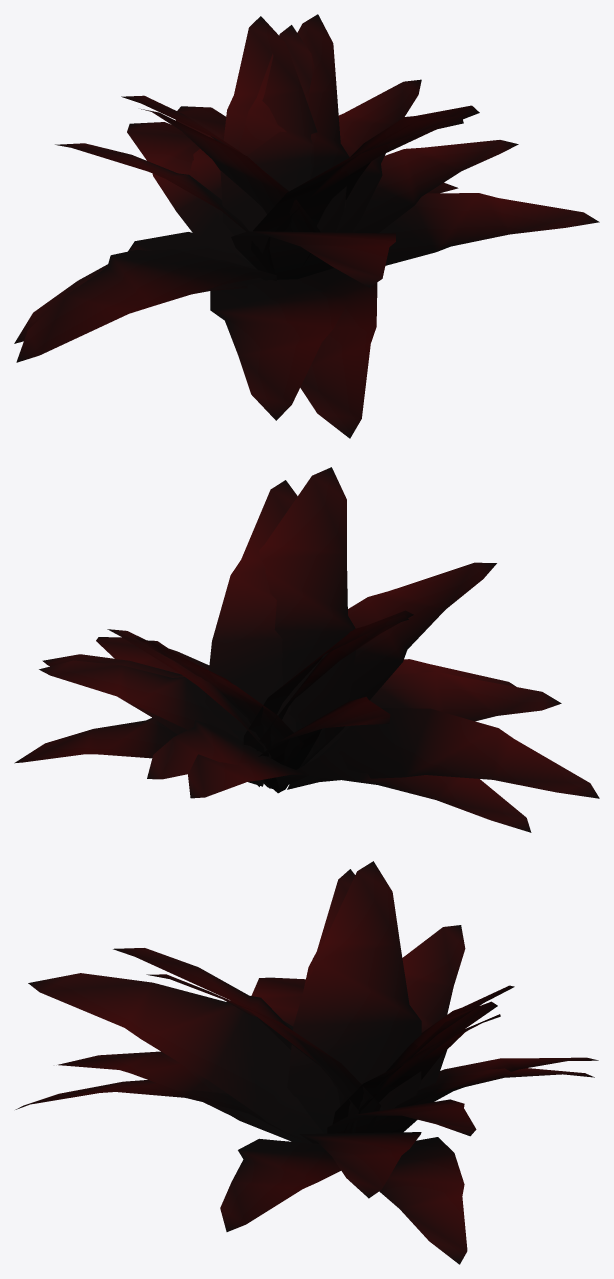
Rendered from Ferns01D.fbx.
3 views of the same model, one above another, from view 1: azimuth 30°, elevation 25°; view 2: azimuth 150°, elevation 25°; view 3: azimuth 270°, elevation 25° (orthographic). The views are drawn at different scales.
Parts seen in each view (by area): view 1: Ferns01D; view 2: Ferns01D; view 3: Ferns01D.
Part boxes in pixels (x1,y1,x2,y2): Ferns01D: (14, 14, 599, 438); Ferns01D: (14, 467, 599, 832); Ferns01D: (15, 861, 598, 1264).
Size of the model in its own units: 3.43 by 1.41 by 3.09.
